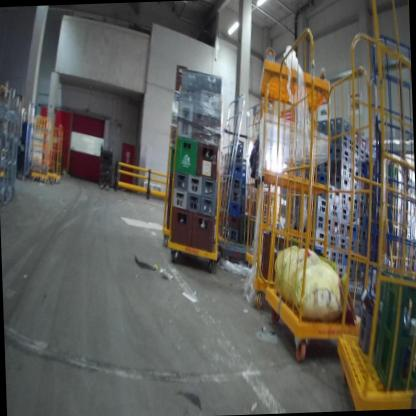pallet_truck: (95, 139, 116, 193)
